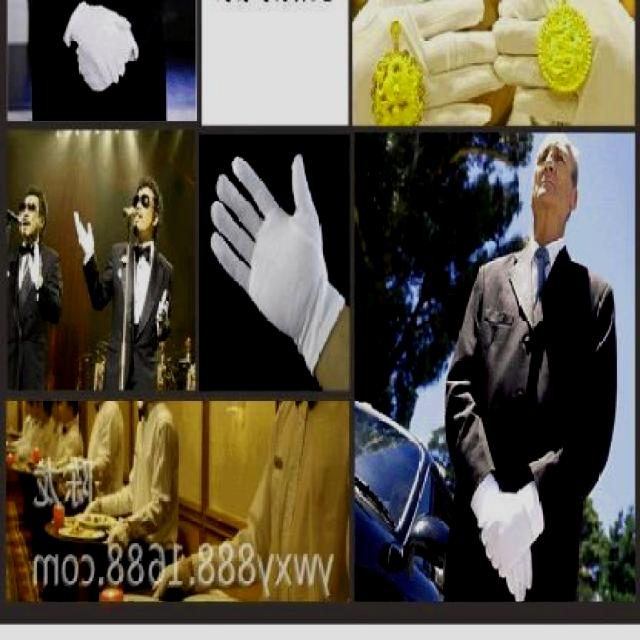face_nomask: (537, 140, 571, 211), (134, 188, 161, 235), (22, 198, 43, 230)
hand_glove: (209, 152, 334, 351), (492, 0, 640, 140), (354, 0, 506, 126), (75, 6, 140, 94), (476, 483, 542, 569), (502, 520, 540, 606), (151, 554, 192, 601), (71, 208, 95, 266), (106, 514, 132, 561), (152, 286, 171, 331), (26, 240, 43, 289)
head_nohelmet: (535, 137, 588, 155), (134, 172, 163, 192), (23, 184, 40, 204)
person: (432, 138, 610, 637), (69, 168, 171, 384), (0, 180, 62, 397)
